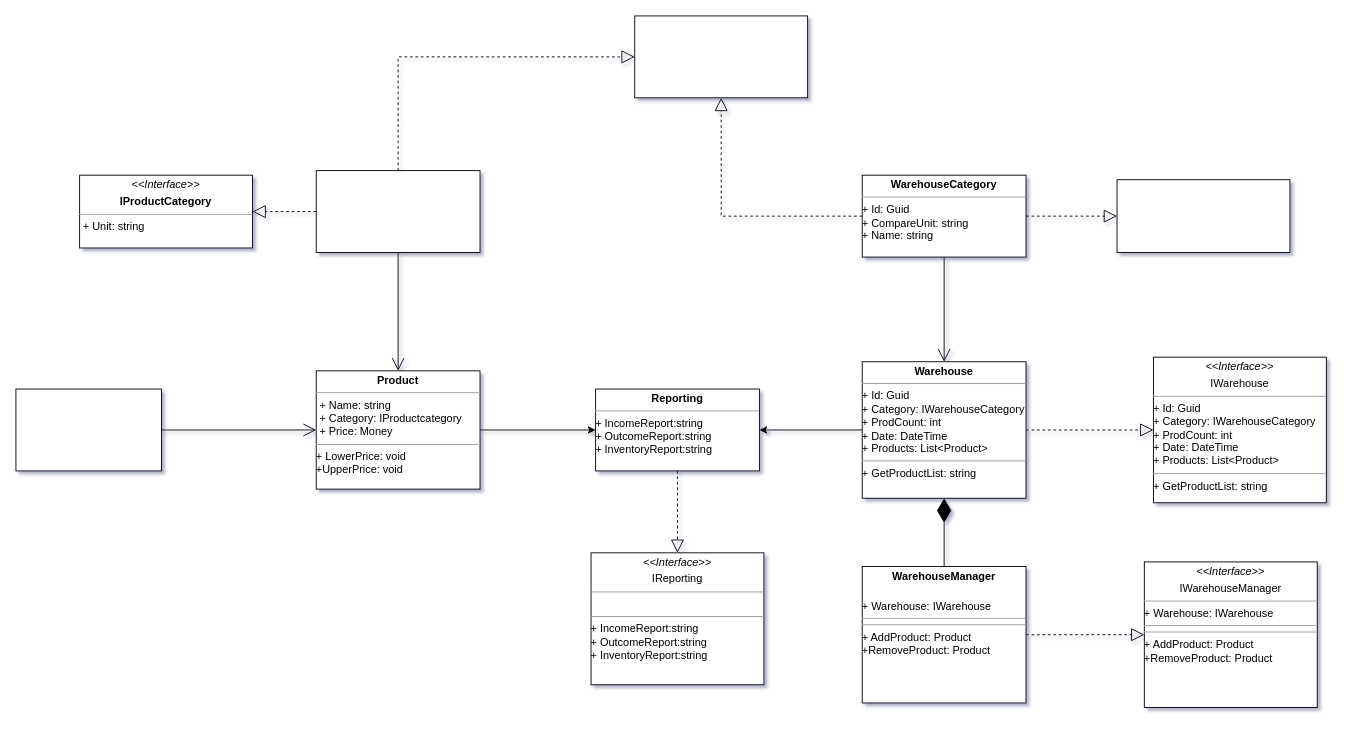
The diagram is 1348 pixels wide and 729 high, and some of its shapes have lost their labels. The shapes that lost their labels are listed below. From the top down, each one's box as (x1, y1, x2, y2) in pixels, then its label:
(634, 15, 808, 98): <<Interface>> ICategory + Id: Guid + Name: string
(315, 170, 480, 253): ProductCategory + Id: Guid + Unit: string + Name: string
(1116, 179, 1290, 253): <<Interface>> I WarehouseCategory + CompareUnit: string
(15, 388, 162, 471): Money - _bill: int - _coin; int + ChangeMoney: void
